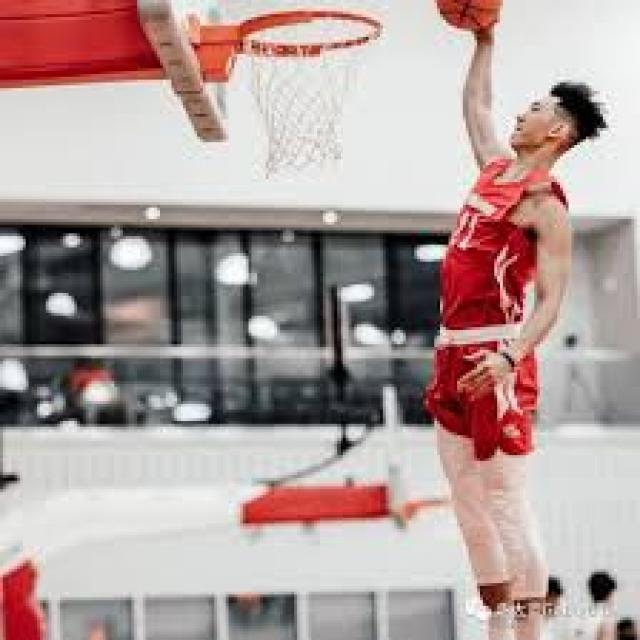rim: (440, 0, 503, 31)
